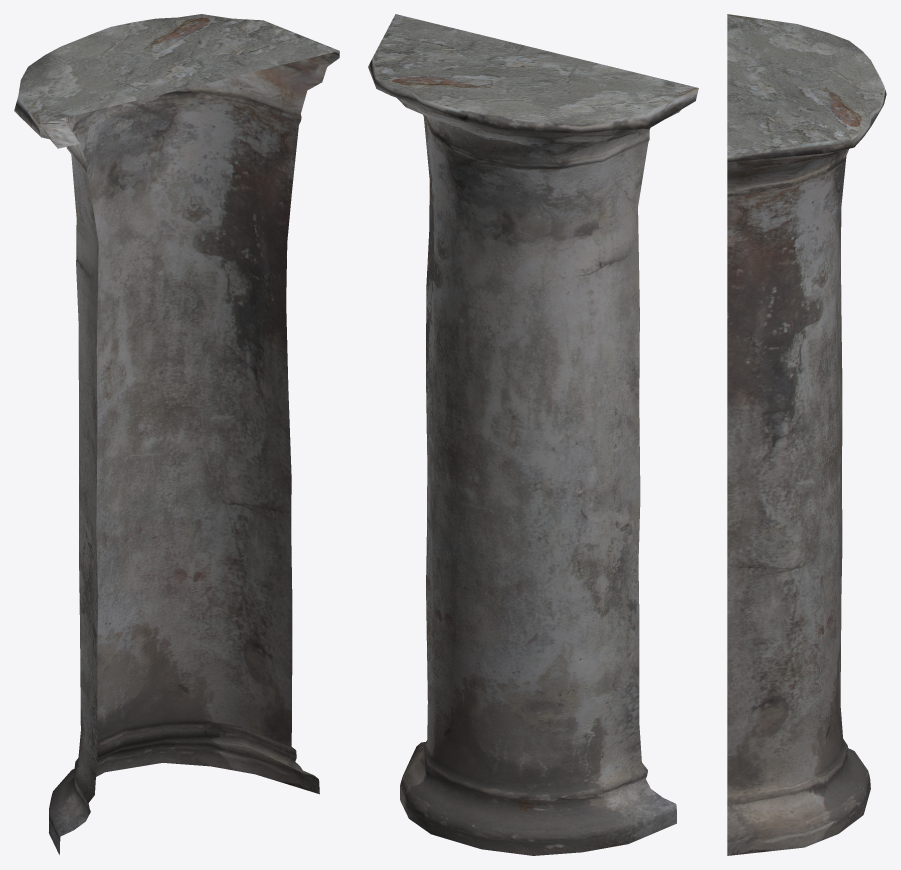
The model's file is SM_CryptColumn_01_02.fbx.
3 views of the same model, side by side, from view 1: azimuth 30°, elevation 25°; view 2: azimuth 150°, elevation 25°; view 3: azimuth 270°, elevation 25° (orthographic). The views are drawn at different scales.
Parts seen in each view (by area): view 1: sm_CryptColumn_01_02_LOD0; view 2: sm_CryptColumn_01_02_LOD0; view 3: sm_CryptColumn_01_02_LOD0.
Part boxes in pixels (x1,y1,x2,y2): sm_CryptColumn_01_02_LOD0: (14, 14, 339, 854); sm_CryptColumn_01_02_LOD0: (368, 14, 698, 855); sm_CryptColumn_01_02_LOD0: (727, 14, 886, 855).
Bounding box in the file's own units: 38.45 × 80.83 × 190.
